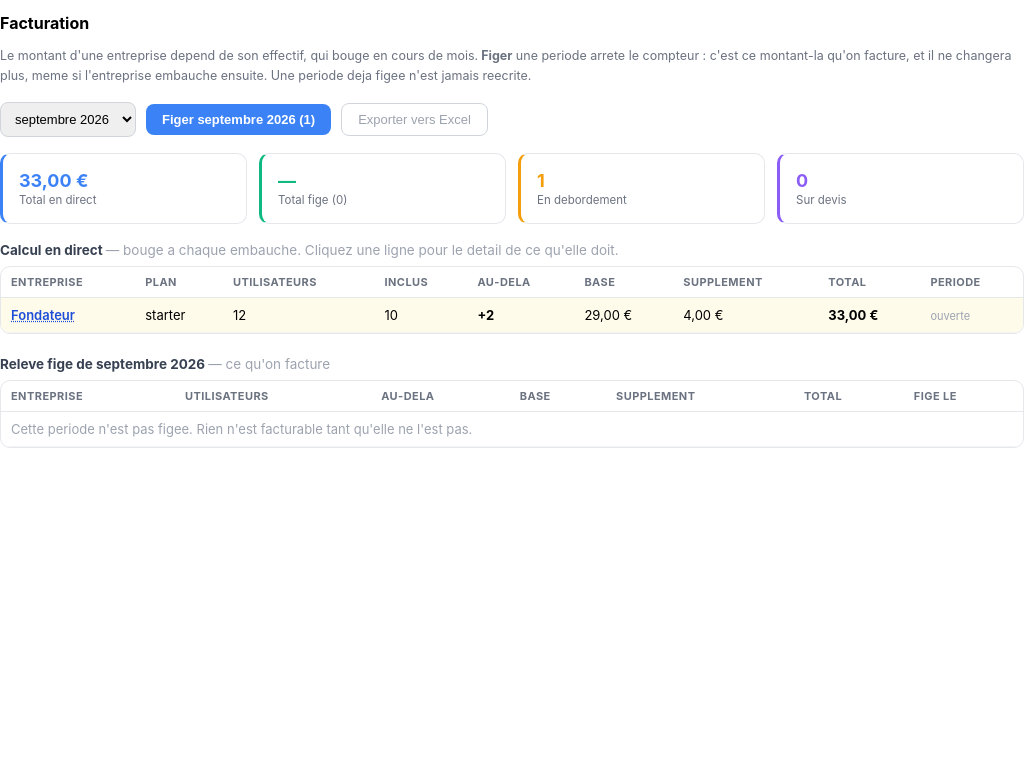
Test: le bouton Figer › il ne fige RIEN sans passer par la confirmation
Click the button "Figer septembre 2026 (1)" at [239, 119], box [146,104,331,135]
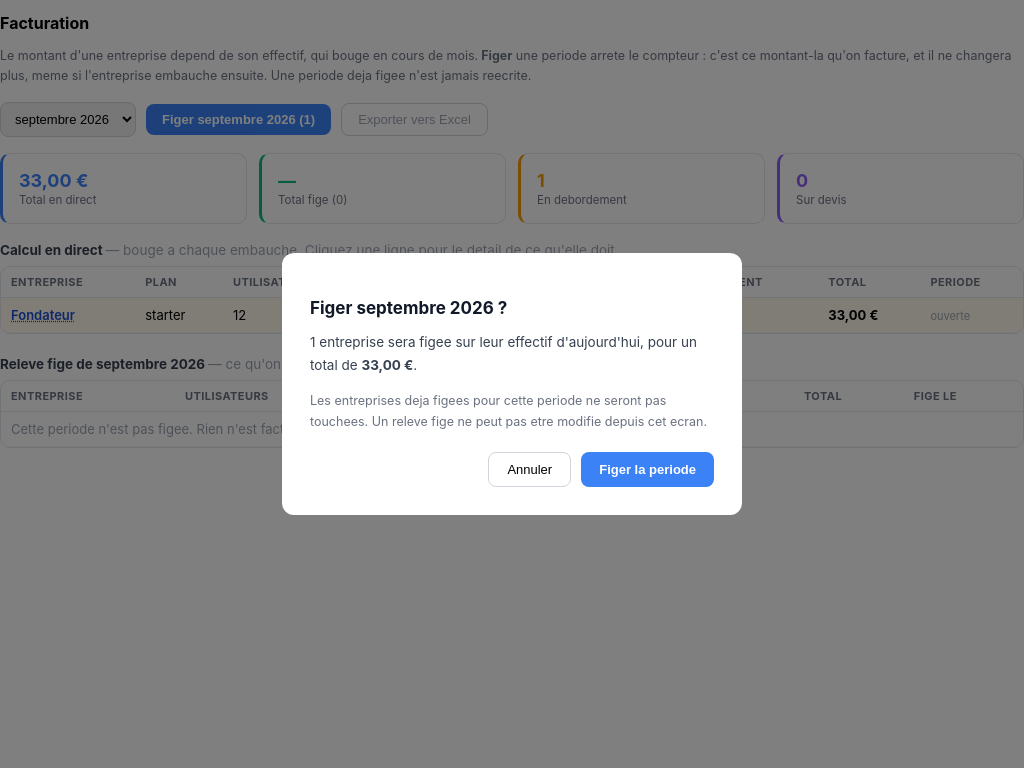
Expected: the text "Figer la periode" is shown, [581,452,714,487]
